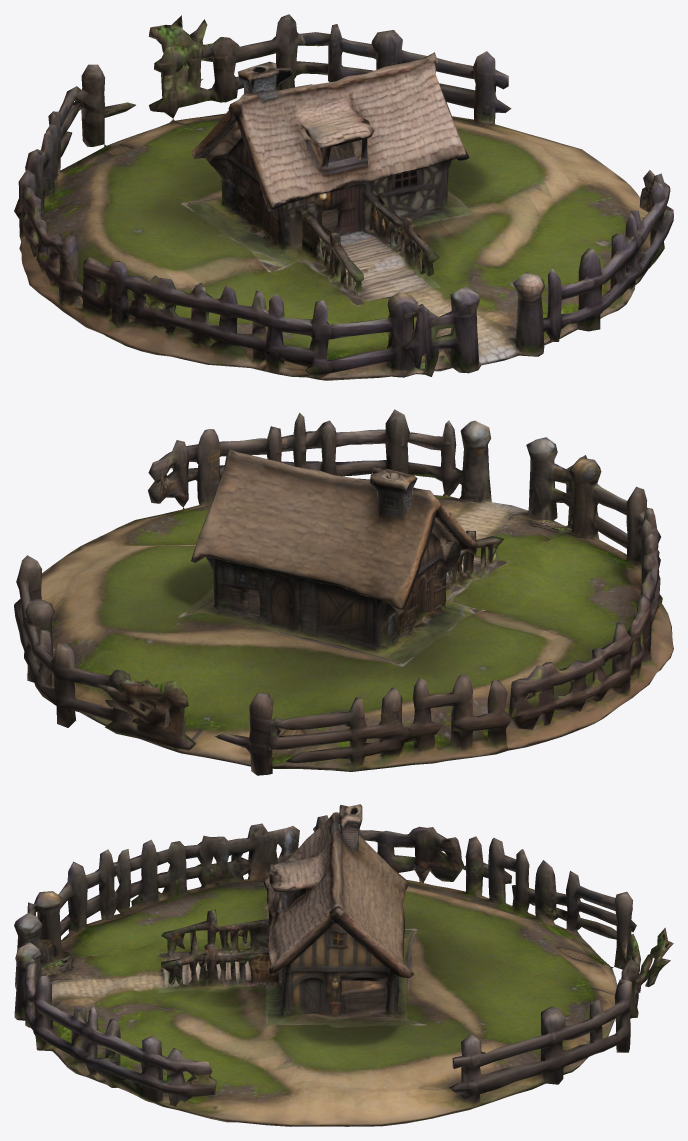
File: cattle_farm.glb
3 renders of one model, top to bottom at view 1: azimuth 30°, elevation 25°; view 2: azimuth 150°, elevation 25°; view 3: azimuth 270°, elevation 25°, orthographic. The views are drawn at different scales.
Bounding box in the file's own units: 1.8 × 0.5634 × 2.01.
1 material, 1 textured.
